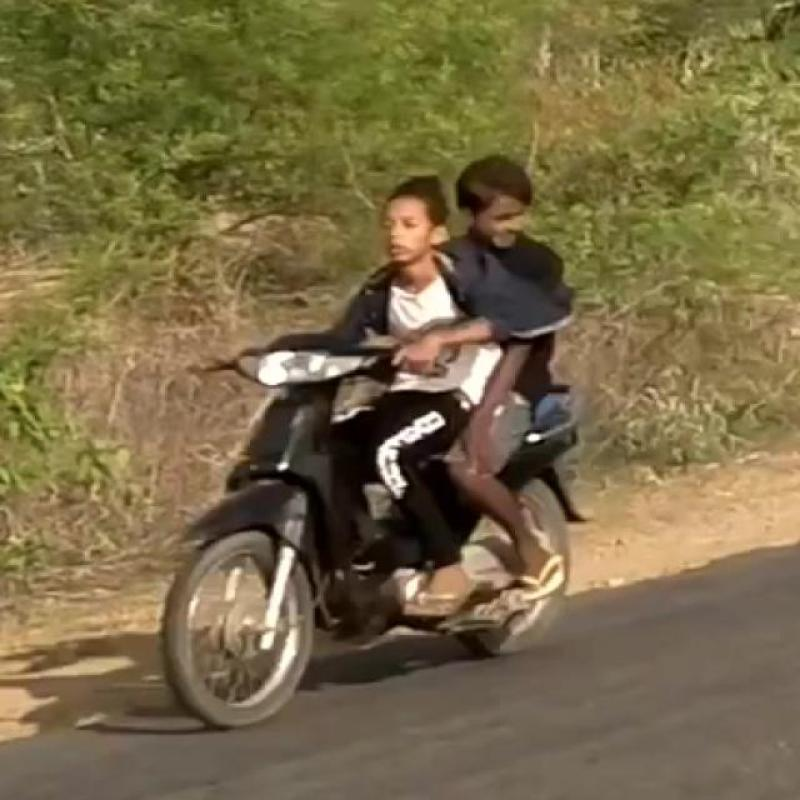nohelmet: (359, 184, 465, 265), (470, 139, 534, 242)
